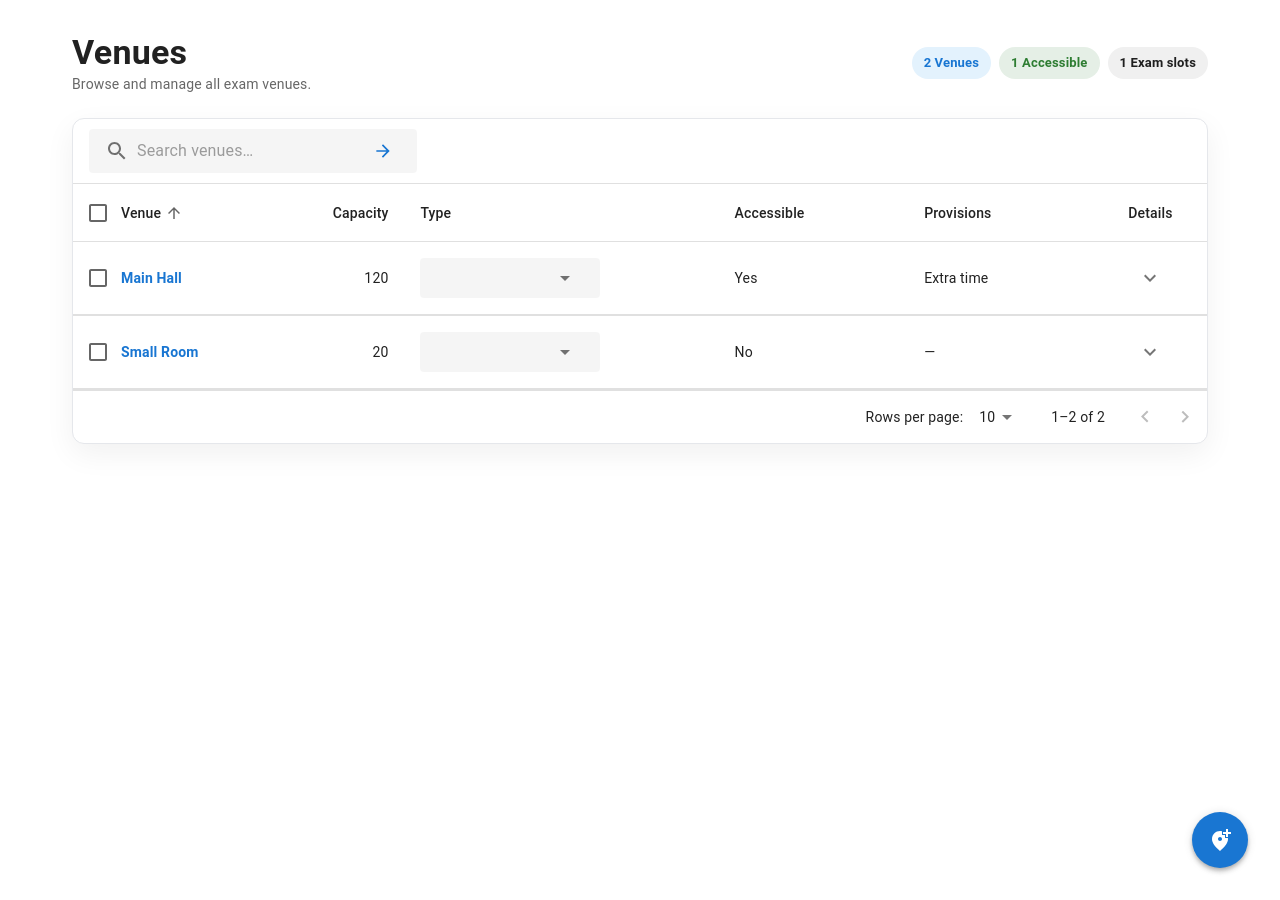
Test: AdminVenues › expands a row to show exam details
This screenshot has width=1280, height=900.
Check: the link "Main Hall" is shown, box 121,270 -> 182,286
Step 1. Click the button without text in the row of "Main Hall" → (1150,278), box 1130,258 -> 1170,298
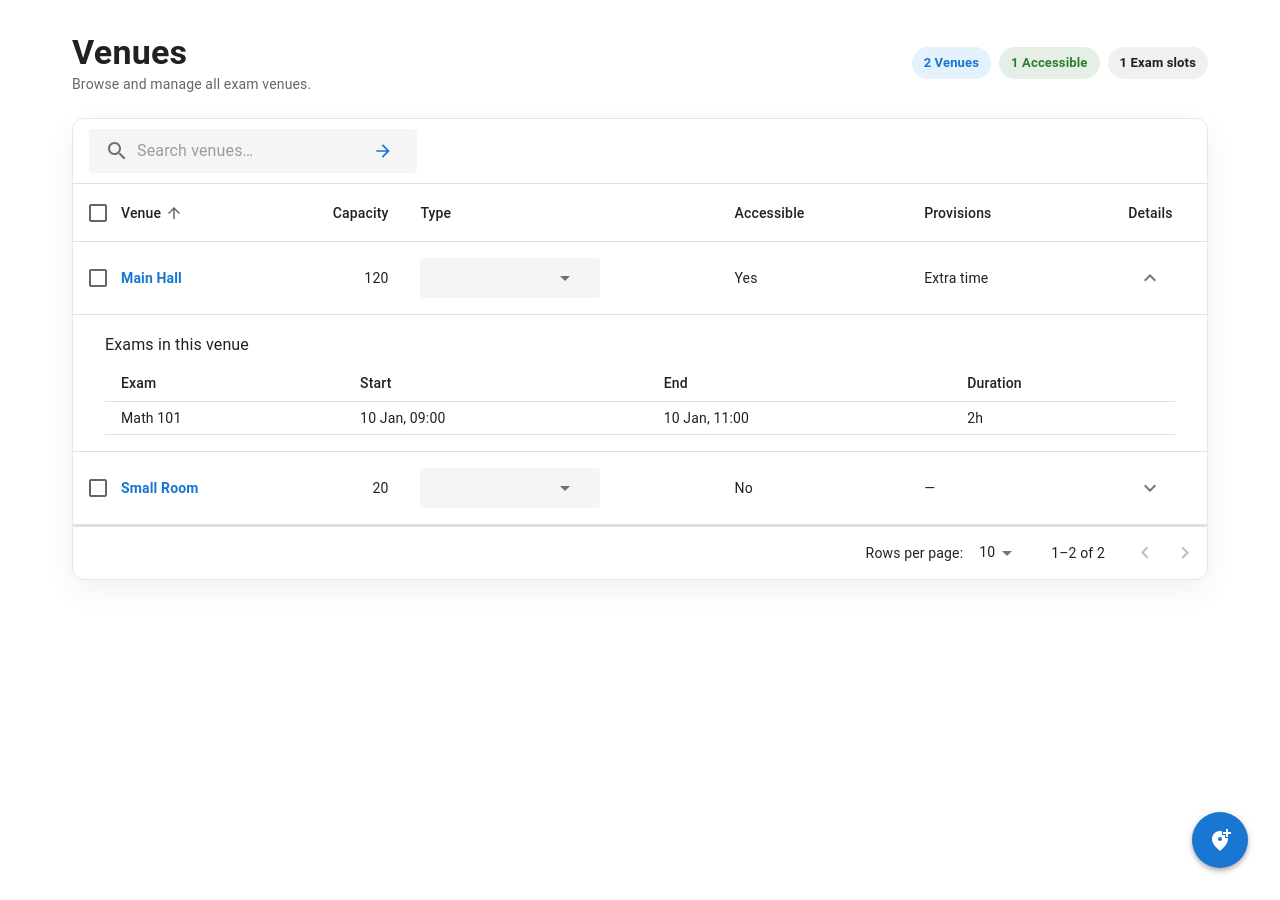
Check: the heading "Exams in this venue" is shown, box 105,335 -> 249,354
Check: the text "Math 101" is shown, box 105,401 -> 344,434
Check: the text "2h" is shown, box 951,401 -> 1175,434
